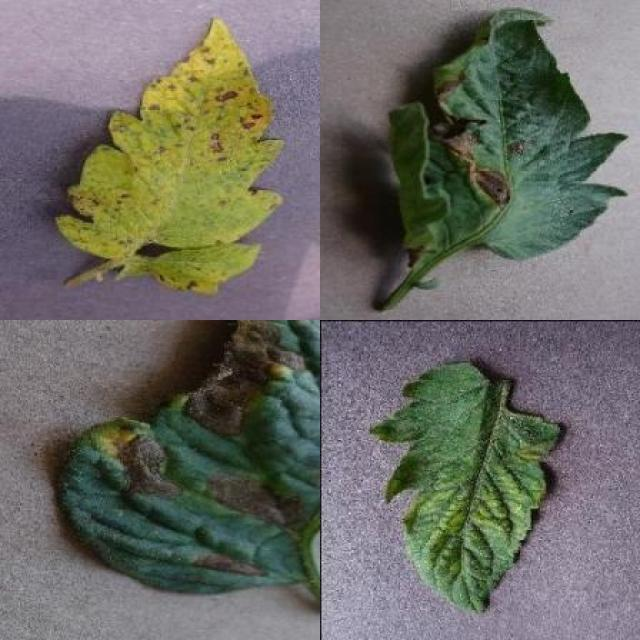Early Blight: (59, 322, 320, 598), (389, 8, 625, 265)
Mosaic Virus: (366, 358, 563, 615)
Septoria: (56, 15, 284, 295)
